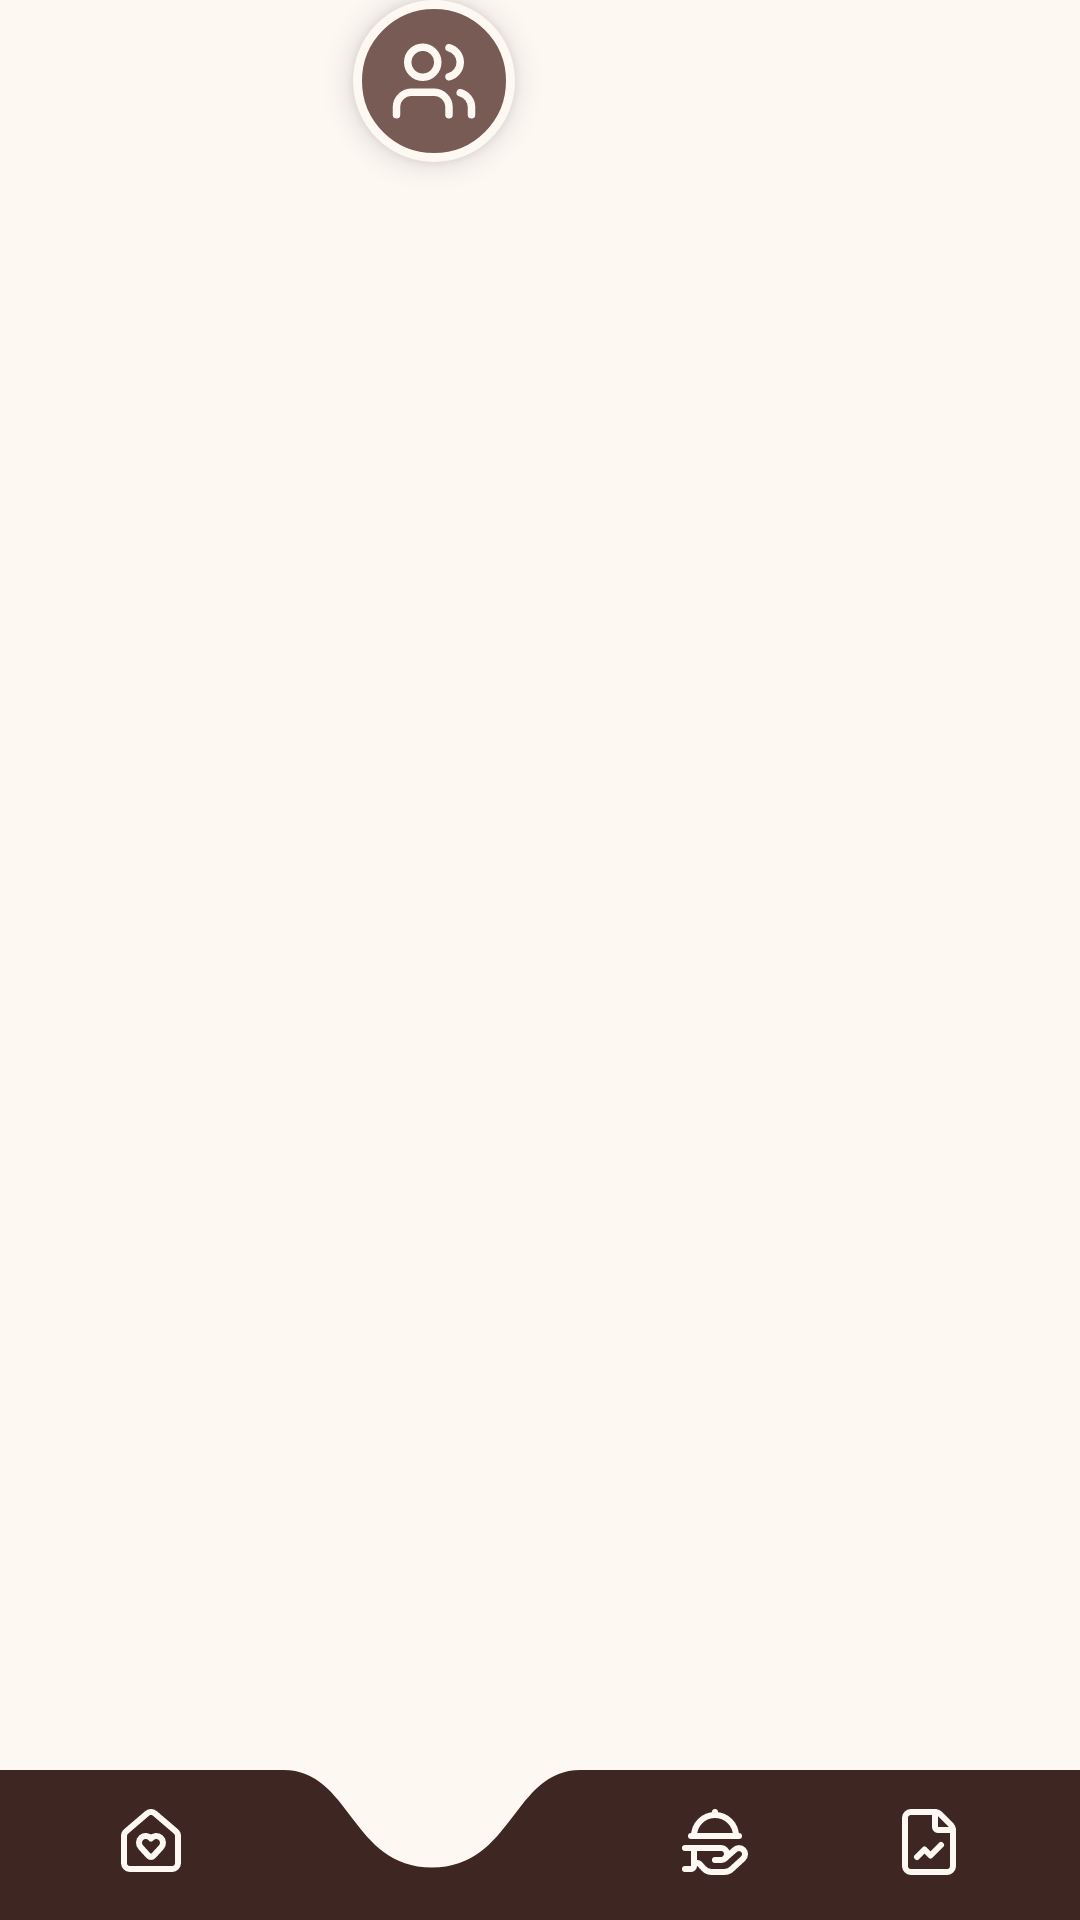

Named icons in this screenshot (1080 × 1920) and their centers, [x,y]:
Estadísticas: [929,1842]
Gestión de usuarios: [429,85]
Inicio: [151,1840]
Ventas: [715,1842]
